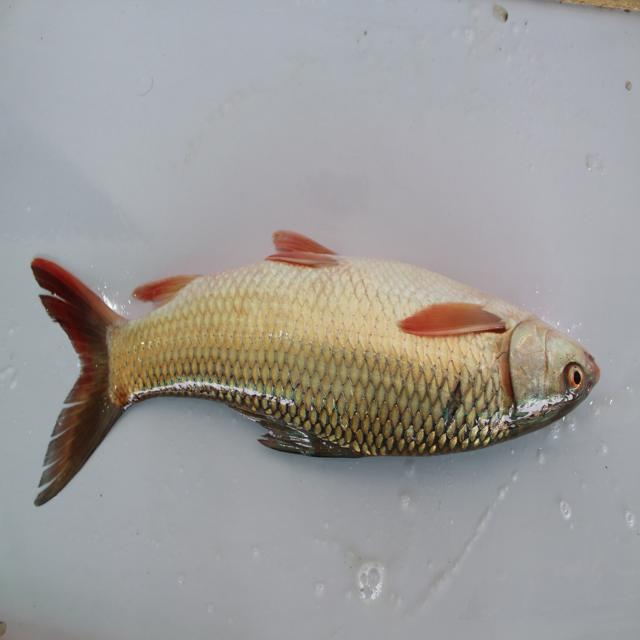Mori: (23, 222, 608, 511)
